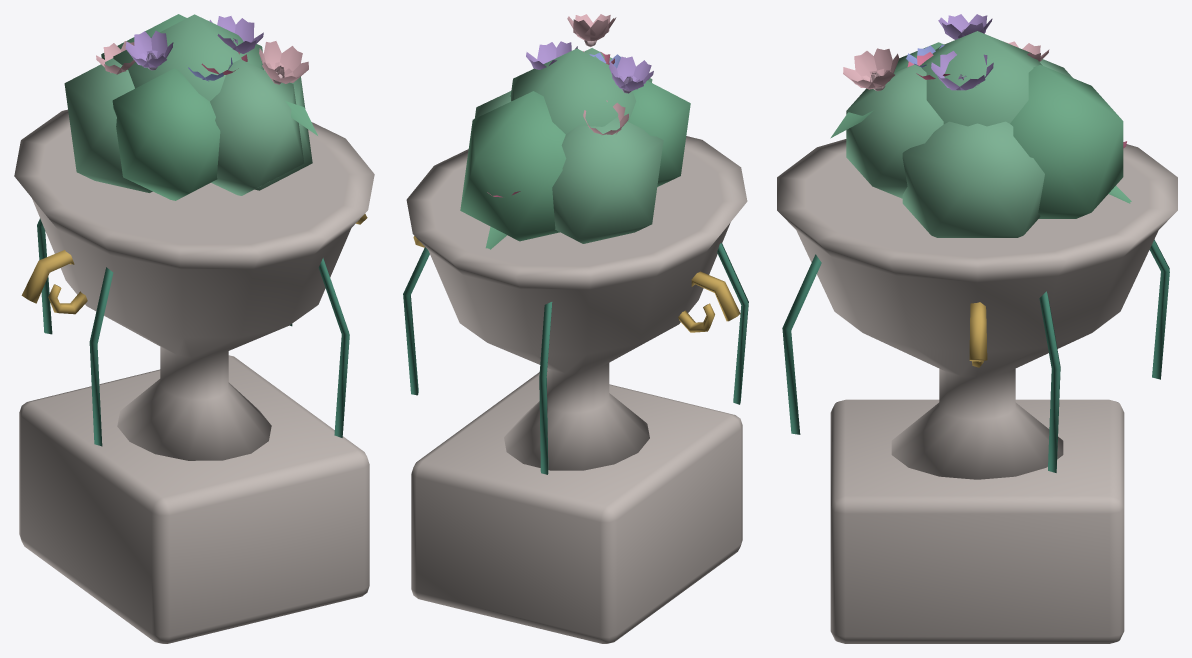
File: garden_urn.glb
3 renders of one model, left to right at view 1: azimuth 30°, elevation 25°; view 2: azimuth 150°, elevation 25°; view 3: azimuth 270°, elevation 25°, orthographic. The views are drawn at different scales.
Visible parts, largest first — view 1: garden_urn; view 2: garden_urn; view 3: garden_urn.
Part boxes in pixels (left/top/right/bottom): garden_urn: left=14, top=14, right=374, bottom=643; garden_urn: left=403, top=14, right=748, bottom=643; garden_urn: left=777, top=14, right=1177, bottom=643.
Size of what is drawn, in the model's own units: 0.9 by 1.4 by 0.9.
